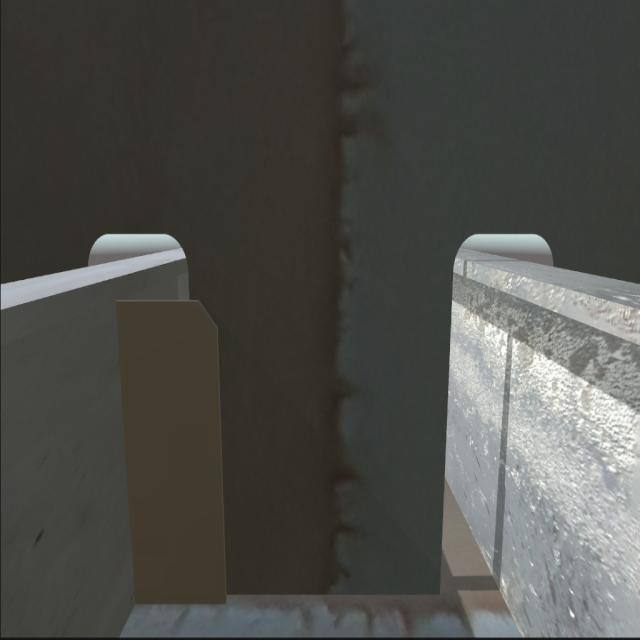fillet_yong_jeop_jang: (135, 580, 443, 610)
longi_yong_jeop_jang: (110, 294, 147, 612)
plate_CP03: (116, 304, 232, 606)
